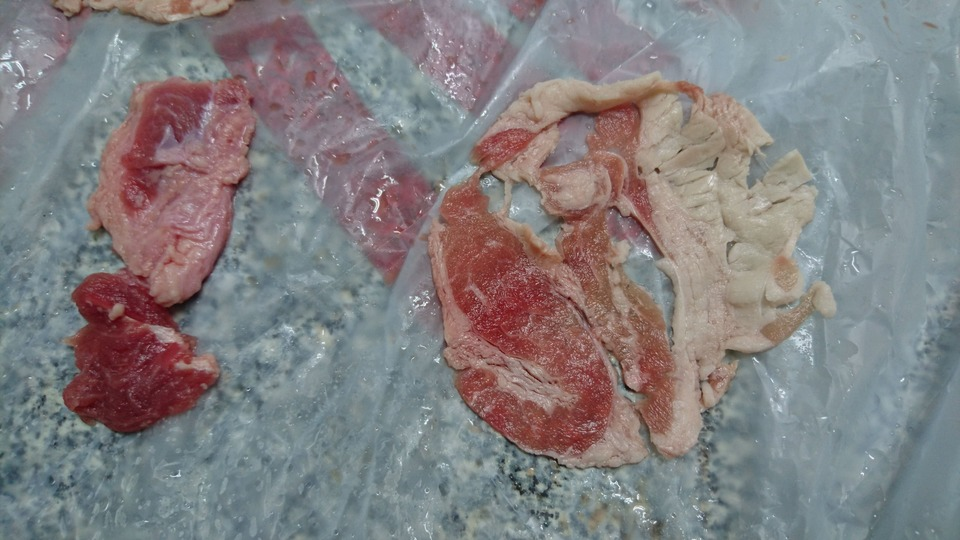restructured meat: (414, 83, 849, 475), (74, 69, 257, 442)
